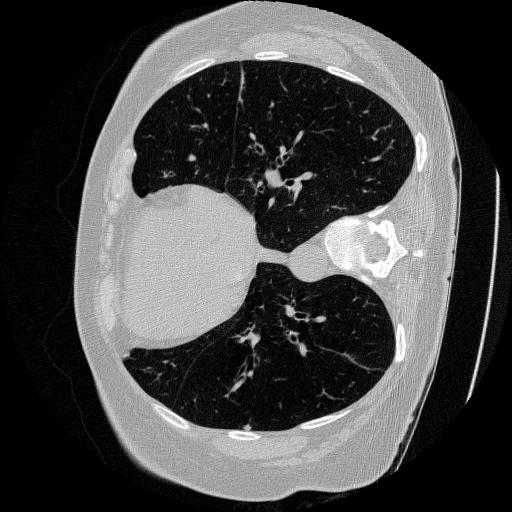nodule: (242, 420, 254, 432)
